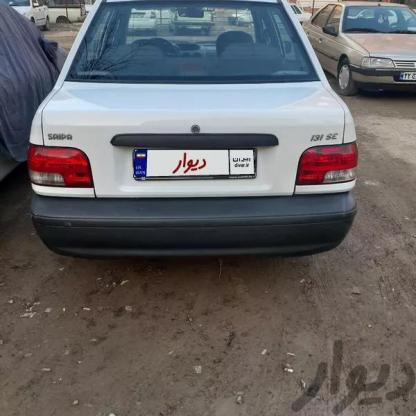Car: (4, 0, 364, 276), (309, 0, 416, 105), (269, 0, 314, 31), (8, 0, 44, 31), (50, 2, 81, 24)
